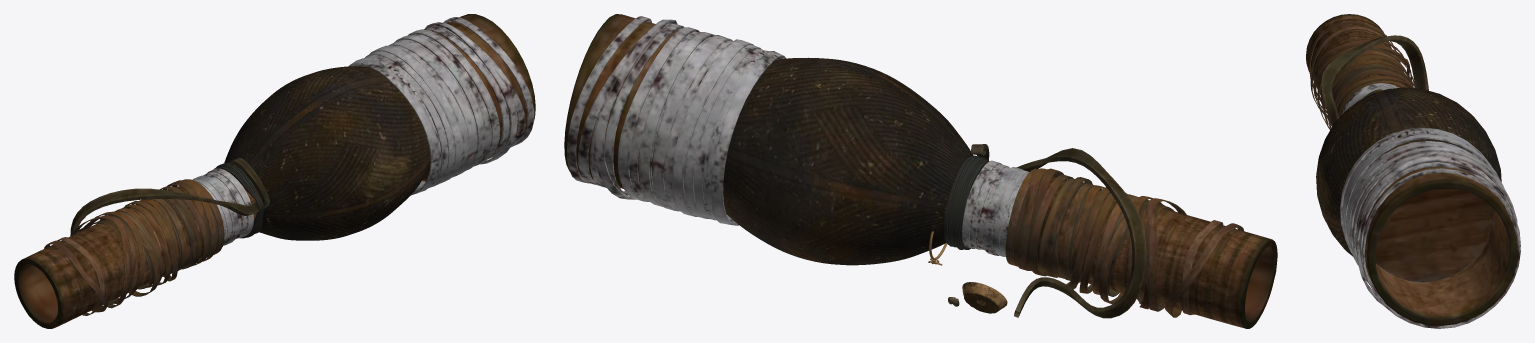
The model's file is snuff.glb.
3 views of the same model, side by side, from view 1: azimuth 30°, elevation 25°; view 2: azimuth 150°, elevation 25°; view 3: azimuth 270°, elevation 25° (orthographic). The views are drawn at different scales.
Visible parts, largest first — view 1: STRAP, GLOBE, TOP_WOOD2, ROPE; view 2: STRAP, GLOBE, TOP_WOOD2, ROPE, NEW_KNOT_MID1; view 3: TOP_WOOD2, STRAP, GLOBE, ROPE.
Part boxes in pixels (box(x1,y1,x2,y2)): STRAP: box(44, 17, 534, 315); GLOBE: box(224, 66, 430, 240); TOP_WOOD2: box(14, 14, 535, 328); ROPE: box(70, 158, 269, 238); STRAP: box(567, 16, 1243, 317); GLOBE: box(723, 57, 973, 265); TOP_WOOD2: box(564, 14, 1277, 328); ROPE: box(944, 144, 1146, 318); NEW_KNOT_MID1: box(928, 231, 1007, 313); TOP_WOOD2: box(1306, 14, 1517, 325); STRAP: box(1309, 21, 1520, 328); GLOBE: box(1316, 87, 1501, 256); ROPE: box(1321, 35, 1428, 125).
Size of the model in its own units: 7.07 by 2.16 by 2.28.
Materials: 1 (1 with a texture image).
